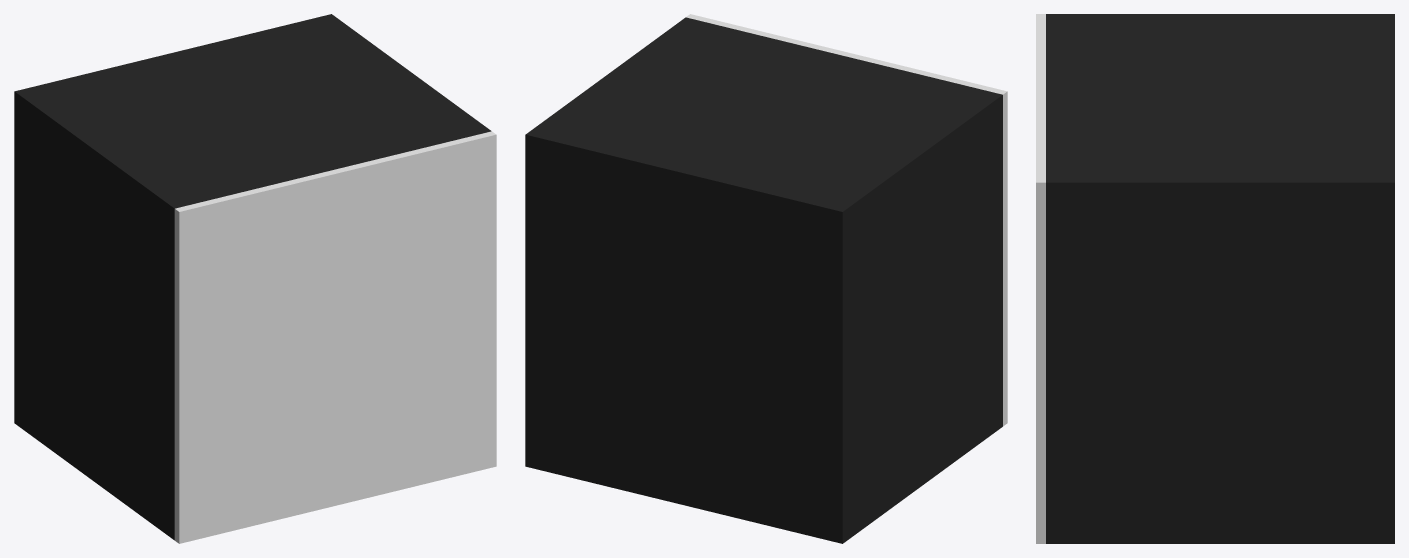
Rendered from MuroInterior.FBX.
3 views of the same model, side by side, from view 1: azimuth 30°, elevation 25°; view 2: azimuth 150°, elevation 25°; view 3: azimuth 270°, elevation 25° (orthographic). The views are drawn at different scales.
Parts seen in each view (by area): view 1: PuertaInterior; view 2: PuertaInterior; view 3: PuertaInterior.
Part boxes in pixels (<box>): PuertaInterior: <box>14,14,496,543</box>; PuertaInterior: <box>525,14,1007,543</box>; PuertaInterior: <box>1036,14,1394,543</box>.
Bounding box in the file's own units: 1 × 1 × 0.9.
Materials: 1 (1 with a texture image).
